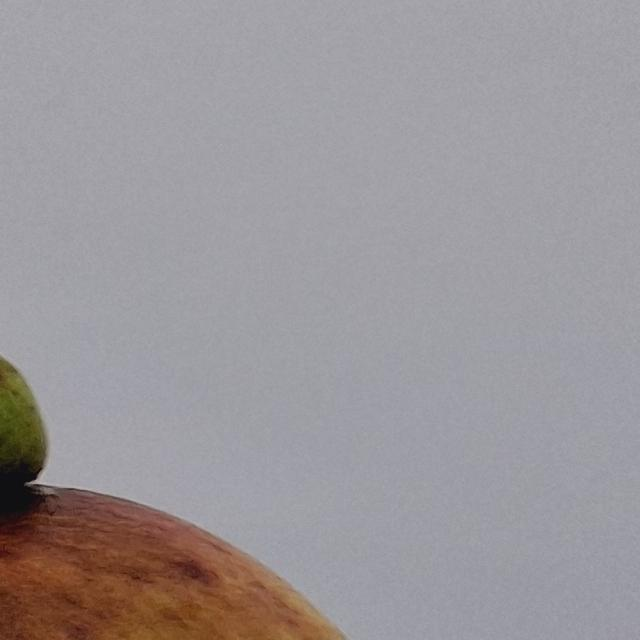mangosteen: (0, 170, 525, 640)
